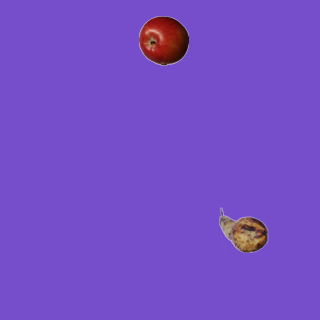Apple Braeburn: (138, 15, 188, 65)
Pear Abate: (218, 205, 268, 255)
